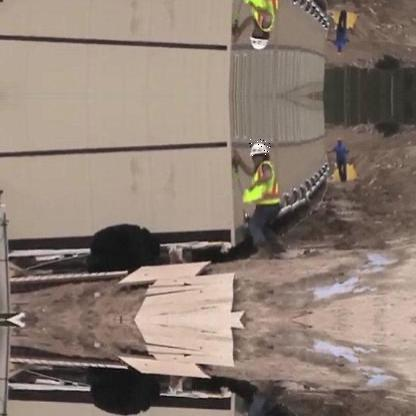safetyhelmet: (248, 138, 272, 158)
